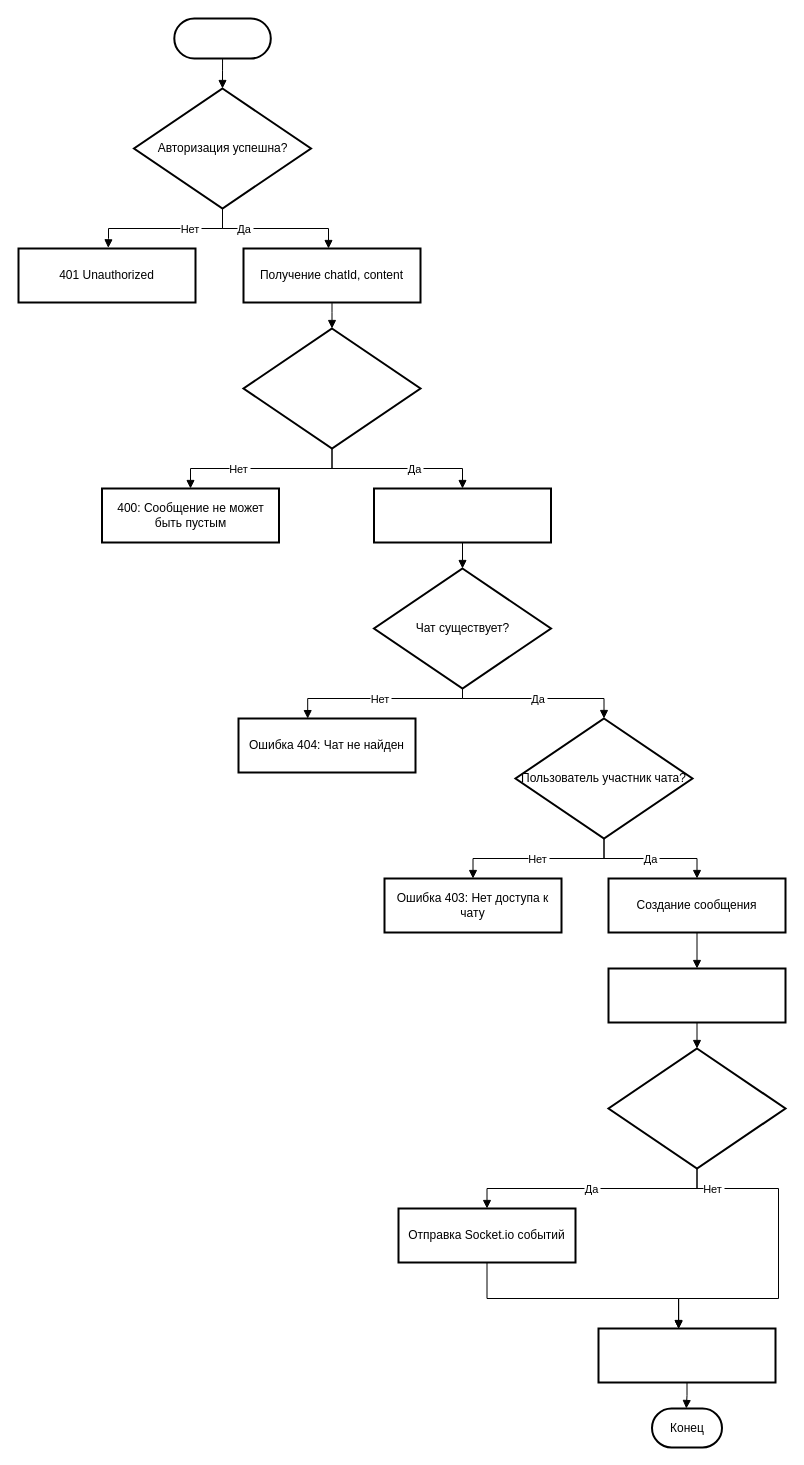
The diagram is 804 pixels wide and 1465 high, and some of its shapes have lost their labels. Here are the shapes that lost their labels. From the top down, the centre of each, then its label:
the point at 222,38: Начало
the point at 331,388: Контент не пустой?
the point at 462,515: Поиск чата в БД по chatId
the point at 696,995: Создание уведомления
the point at 696,1108: Socket.io доступен?
the point at 686,1355: Ответ 201: Объект сообщения
